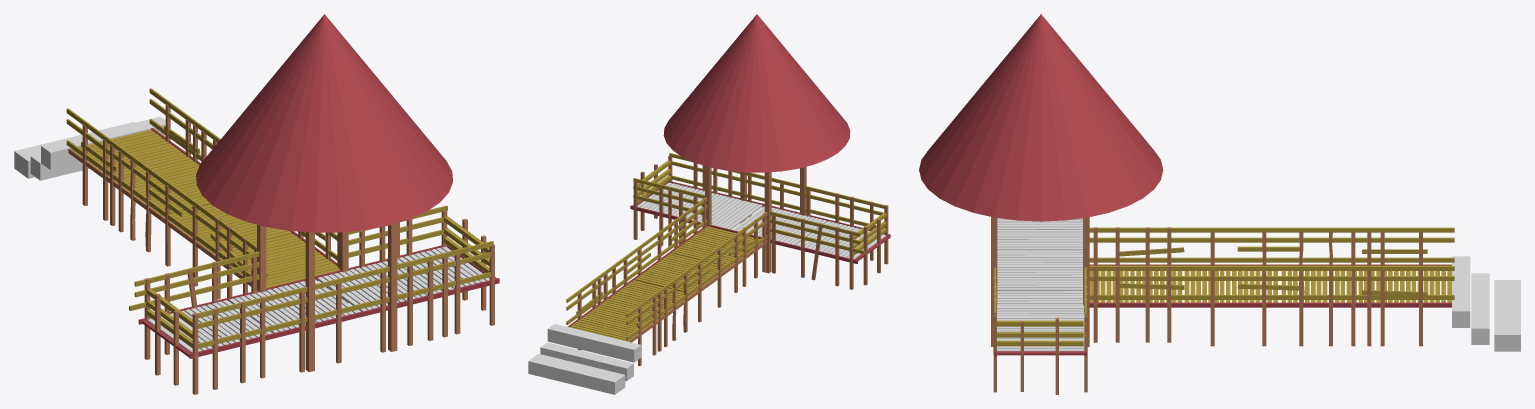
File: brize.glb
3 renders of one model, left to right at view 1: azimuth 30°, elevation 25°; view 2: azimuth 150°, elevation 25°; view 3: azimuth 270°, elevation 25°, orthographic. The views are drawn at different scales.
Parts seen in each view (by area): view 1: Cone, Cube.033, Cube.183, Cube.113, Cube.110, Cube.112, Cube.111, Cube.199, Cube.200, Cube.004, Cube.003, Cube.002 (+30 smaller); view 2: Cone, Cube.033, Cube.185, Cube.183, Cube.184, Cube.112, Cube.111, Cube.020, Cube.004, Cube.094, Cube.197, Cube.113 (+10 smaller); view 3: Cone, Cube.033, Cube.004, Cube.002, Cube.003, Cube.185, Cube.017, Cube.020, Cube.019, Cube.018, Cube.184, Cube.183 (+5 smaller).
Boxes of the visible parts, bbox=[...] form: Cone: bbox=[196, 14, 452, 232]; Cube.033: bbox=[71, 129, 339, 288]; Cube.183: bbox=[41, 116, 165, 170]; Cube.113: bbox=[197, 241, 493, 318]; Cube.110: bbox=[189, 278, 499, 358]; Cube.112: bbox=[198, 252, 490, 328]; Cube.111: bbox=[198, 272, 490, 348]; Cube.199: bbox=[305, 232, 314, 371]; Cube.200: bbox=[388, 223, 397, 351]; Cube.004: bbox=[66, 108, 255, 249]; Cube.003: bbox=[66, 119, 250, 254]; Cube.002: bbox=[66, 140, 251, 276]; Cone: bbox=[663, 14, 850, 172]; Cube.033: bbox=[570, 226, 762, 341]; Cube.185: bbox=[528, 353, 625, 394]; Cube.183: bbox=[547, 324, 641, 362]; Cube.184: bbox=[540, 342, 633, 380]; Cube.112: bbox=[671, 161, 883, 215]; Cube.111: bbox=[671, 175, 884, 229]; Cube.020: bbox=[566, 197, 707, 302]; Cube.004: bbox=[626, 212, 767, 317]; Cube.094: bbox=[630, 205, 857, 263]; Cube.197: bbox=[764, 172, 771, 273]; Cube.113: bbox=[669, 153, 884, 208]; Cone: bbox=[919, 14, 1163, 221]; Cube.033: bbox=[1089, 271, 1451, 302]; Cube.004: bbox=[1089, 227, 1454, 232]; Cube.002: bbox=[1089, 257, 1454, 262]; Cube.003: bbox=[1089, 237, 1454, 242]; Cube.185: bbox=[1494, 280, 1520, 351]; Cube.017: bbox=[1089, 302, 1451, 307]; Cube.020: bbox=[1089, 266, 1454, 270]; Cube.019: bbox=[1089, 276, 1454, 280]; Cube.018: bbox=[1089, 295, 1454, 299]; Cube.184: bbox=[1471, 273, 1489, 344]; Cube.183: bbox=[1452, 256, 1470, 327].
Bounding box in the file's own units: 38.66 × 37.65 × 65.93.
